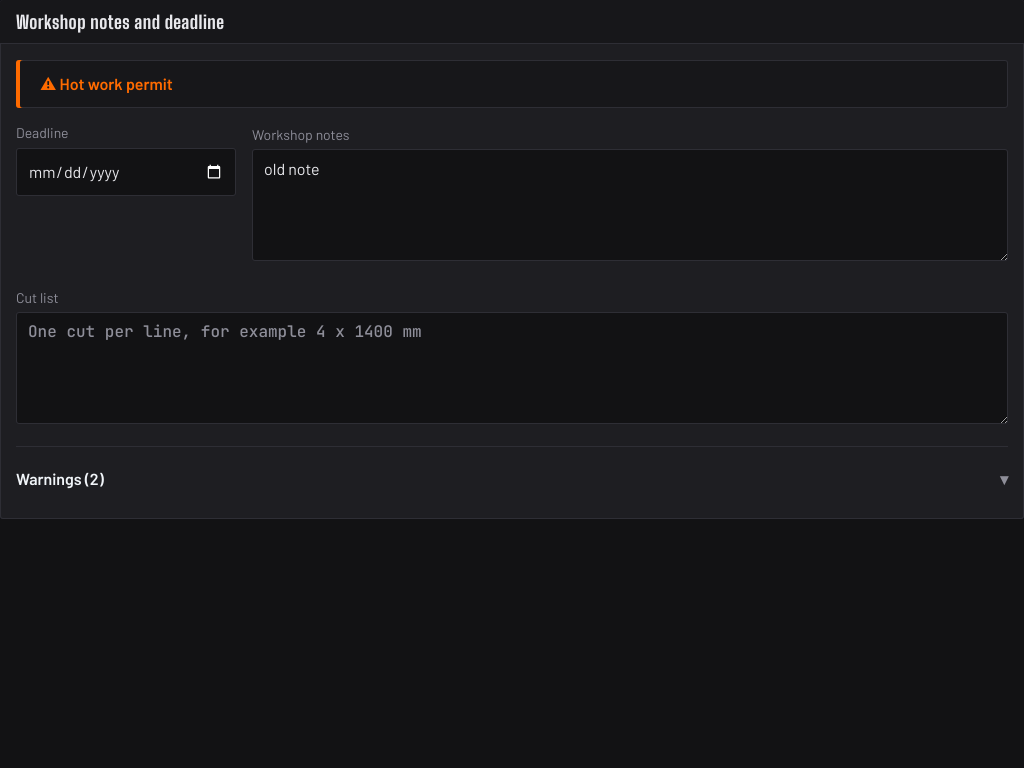
WorkshopNotes › shows an error line on failure and keeps the typed text
Replace the text in the text box labelled "Workshop notes" with "typed". click: (630, 205)
box: [252,149,1008,261]
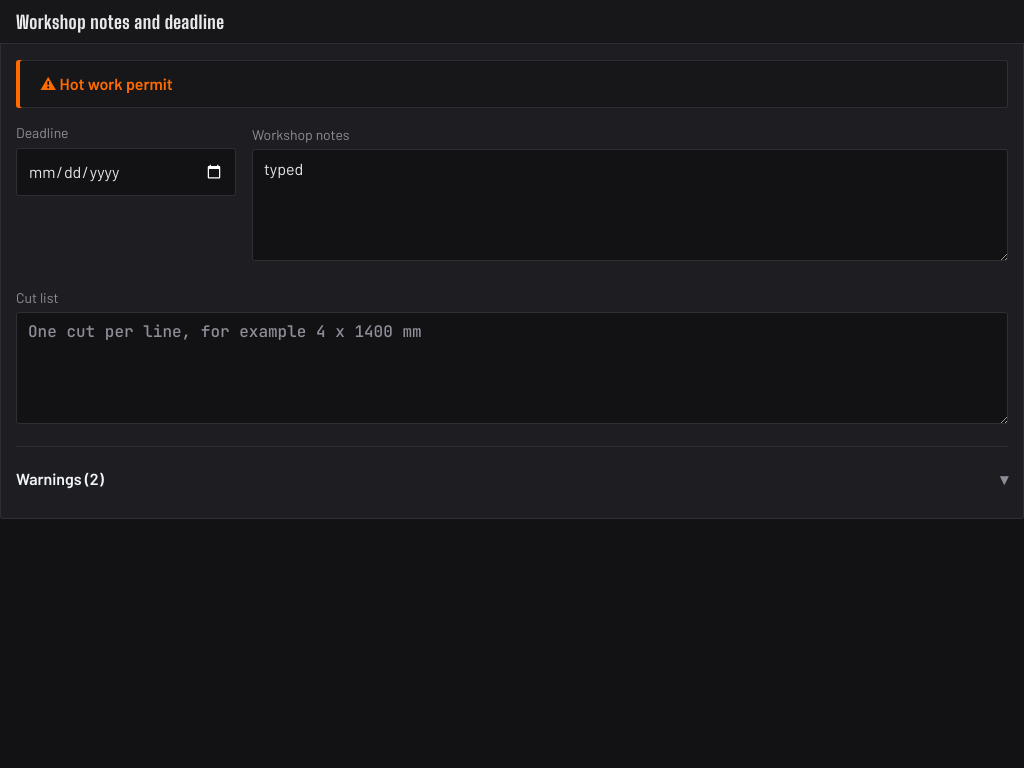
Leave the text box labelled "Workshop notes", box [252,149,1008,261]
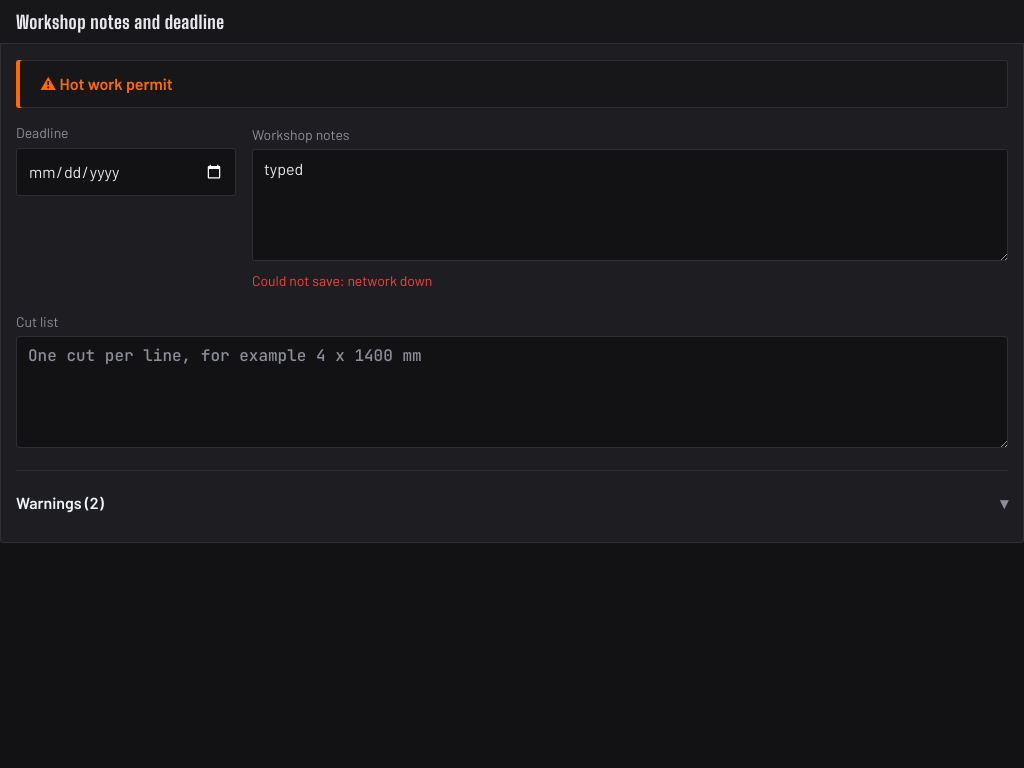
Expected: the message shows "network down", [252,272,432,289]
